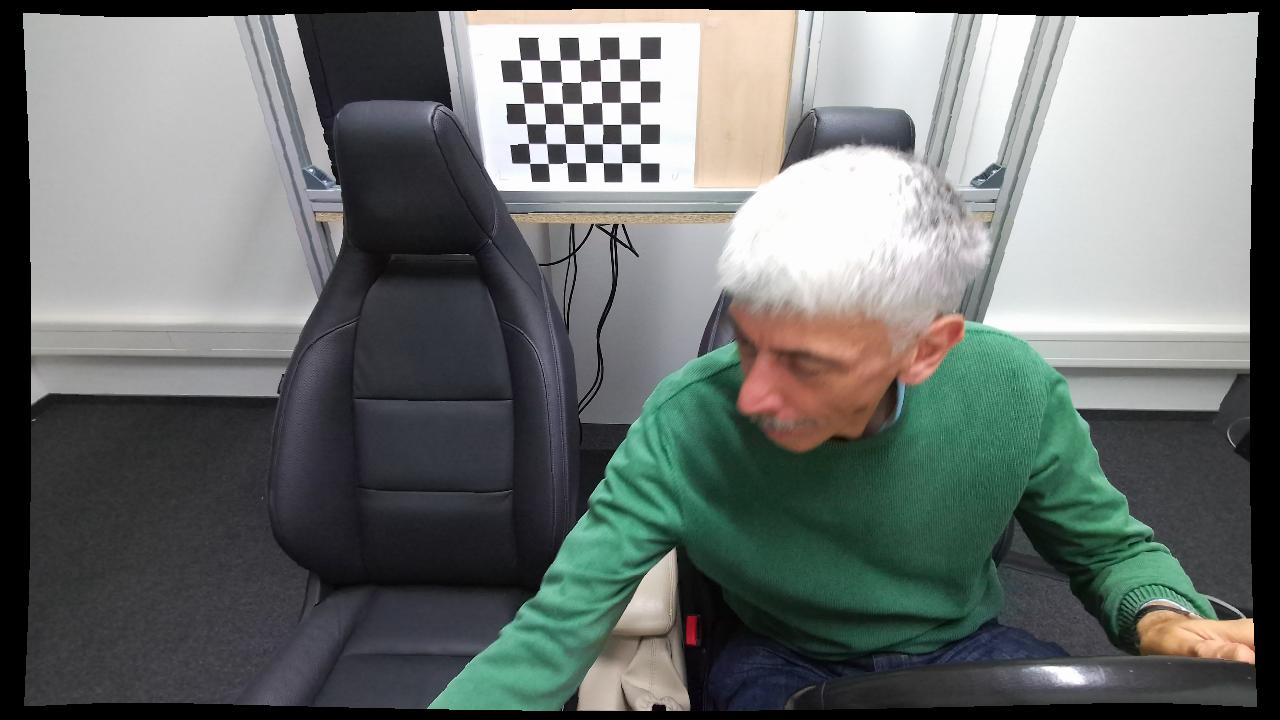Distracted: (422, 145, 1190, 709)
